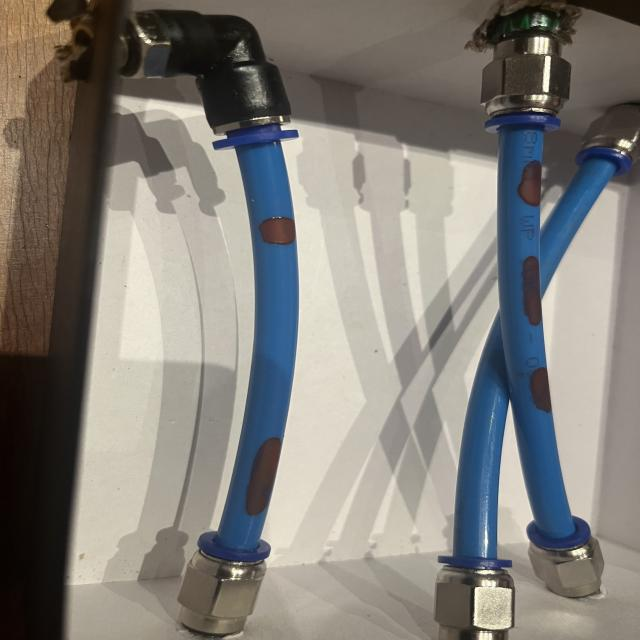hose_damage: (234, 432, 287, 523), (516, 253, 545, 327), (524, 365, 558, 416), (513, 157, 545, 209), (254, 212, 300, 247)
